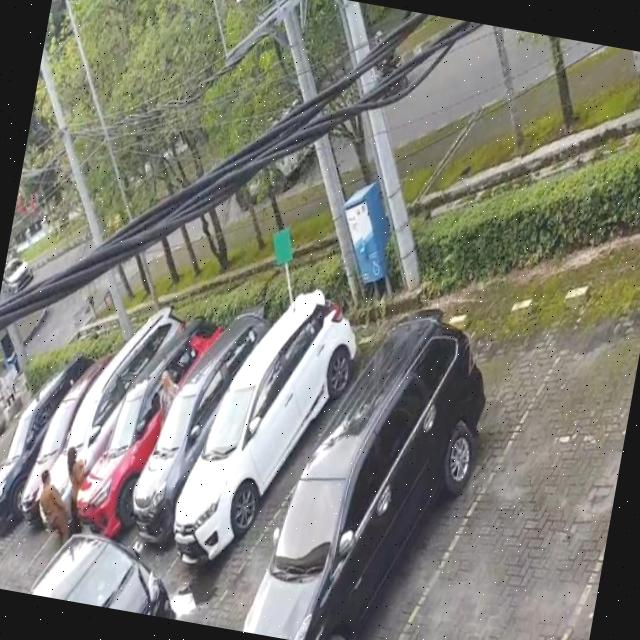empty: (456, 275, 640, 640)
occupied: (328, 282, 515, 640), (157, 309, 292, 610)
